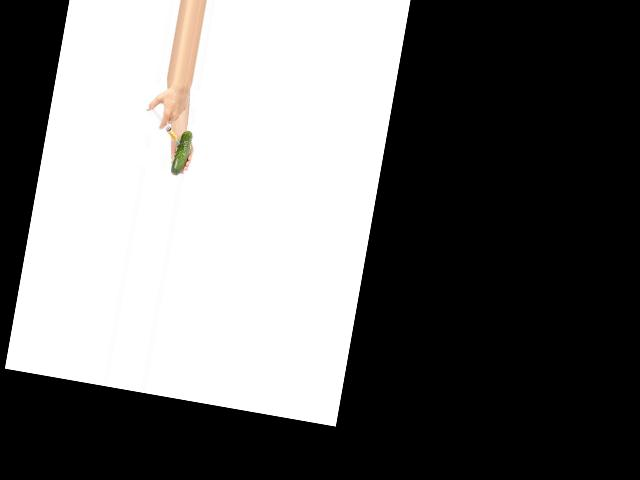cucumber: (170, 129, 193, 177)
